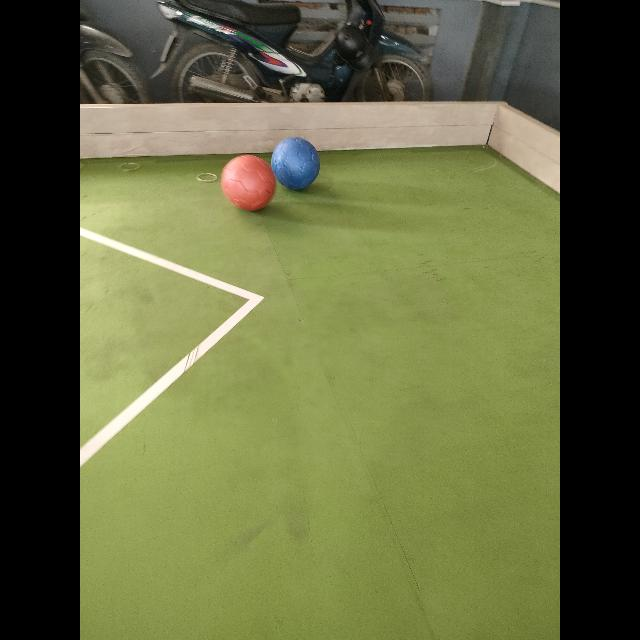B: (271, 138, 320, 190)
R: (221, 155, 276, 211)
